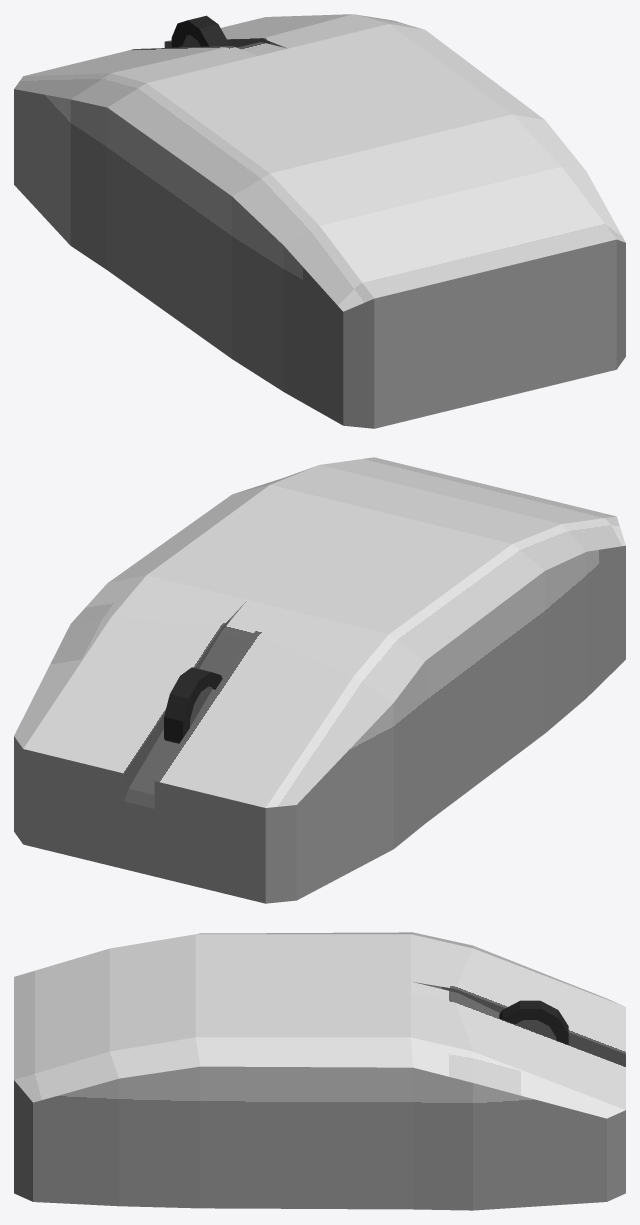
The model's file is mouse.glb.
3 views of the same model, one above another, from view 1: azimuth 30°, elevation 25°; view 2: azimuth 150°, elevation 25°; view 3: azimuth 270°, elevation 25° (orthographic). The views are drawn at different scales.
Visible parts, largest first — view 1: cuboid_0, cylinder_1; view 2: cuboid_0, cylinder_1; view 3: cuboid_0, cylinder_1.
Boxes of the visible parts, box(x1,y1,x2,y2) form: cuboid_0: box(14, 14, 625, 428); cylinder_1: box(171, 15, 229, 47); cuboid_0: box(14, 457, 625, 903); cylinder_1: box(164, 667, 222, 743); cuboid_0: box(14, 932, 625, 1210); cylinder_1: box(499, 1000, 568, 1044).
Bounding box in the file's own units: 0.2656 × 0.1406 × 0.5.
Materials: 1 (1 with a texture image).
